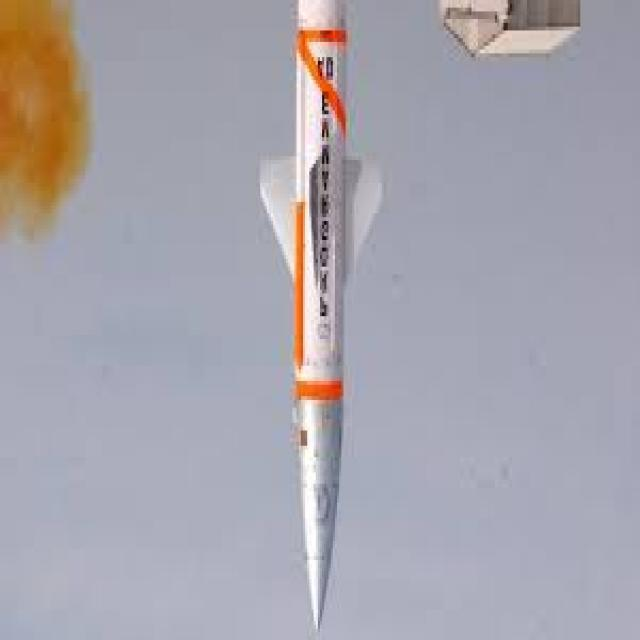missile: (267, 0, 372, 635)
